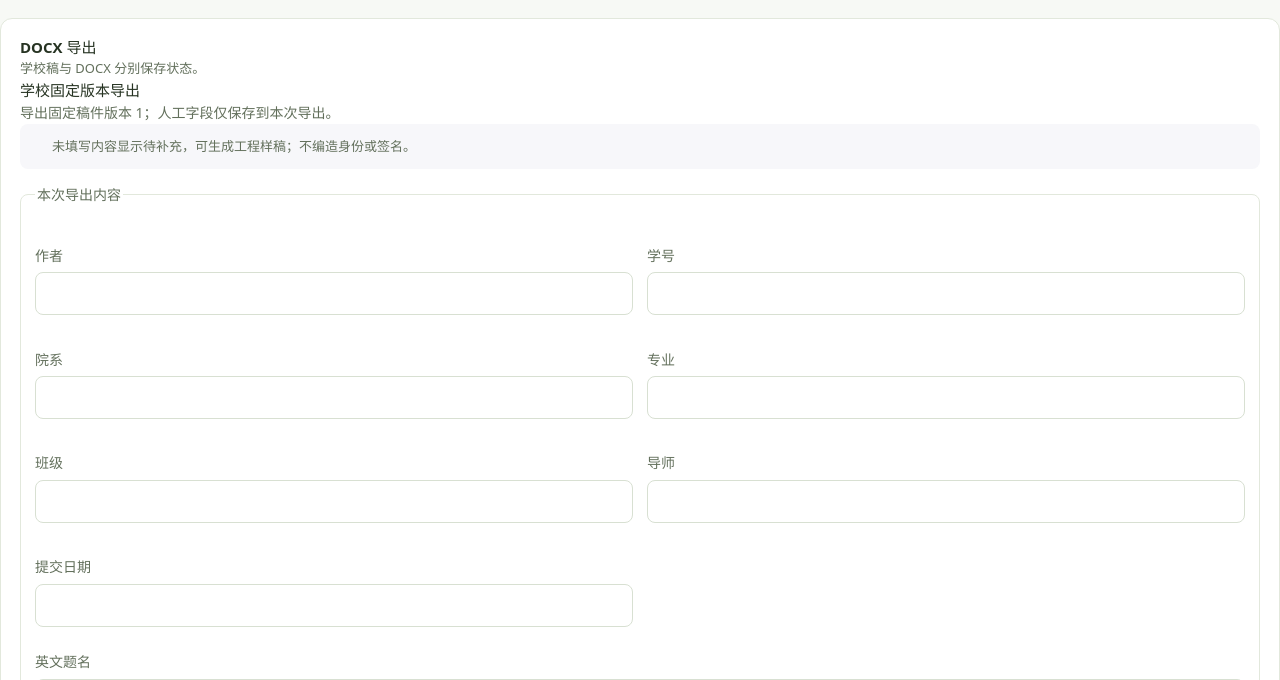
Test case: previews and creates using identical school options, restores static receipt and keeps Word after PDF failure
Type "测试作者" into the field labelled "作者" at x=334, y=294, box [35,272,633,315]
(page scrolled)
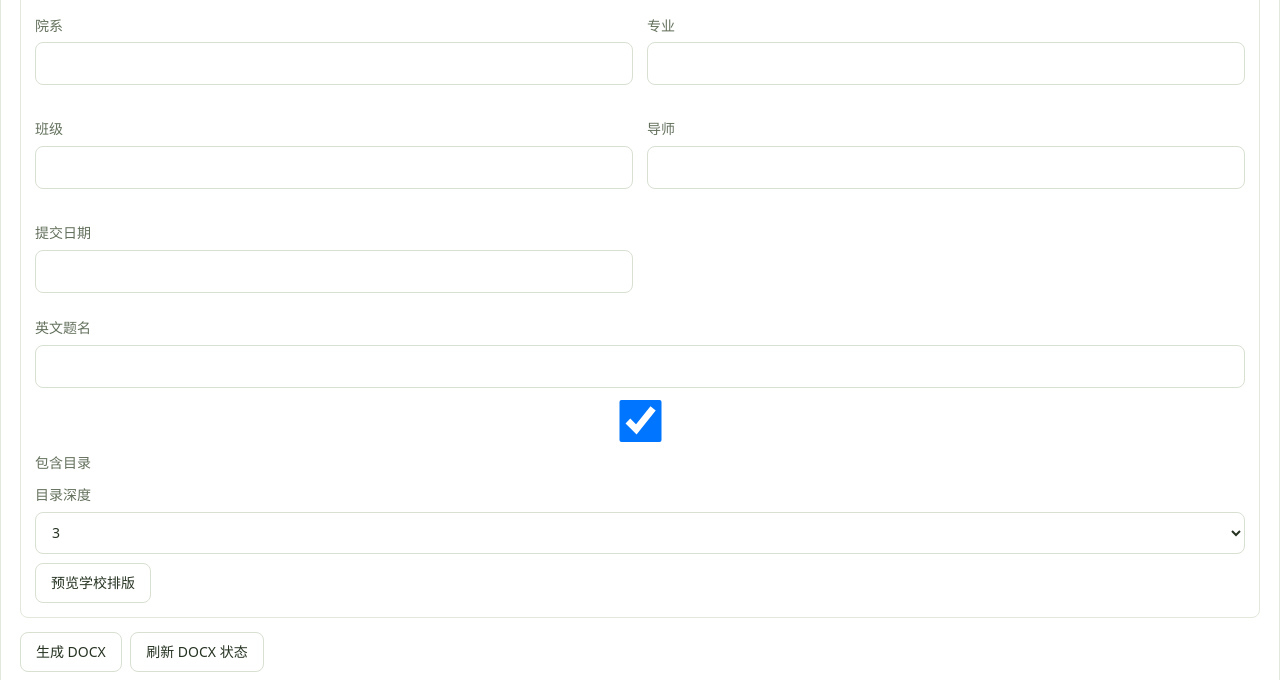
Click the button "预览学校排版" at x=93, y=583, box [35,563,151,603]
(page scrolled)
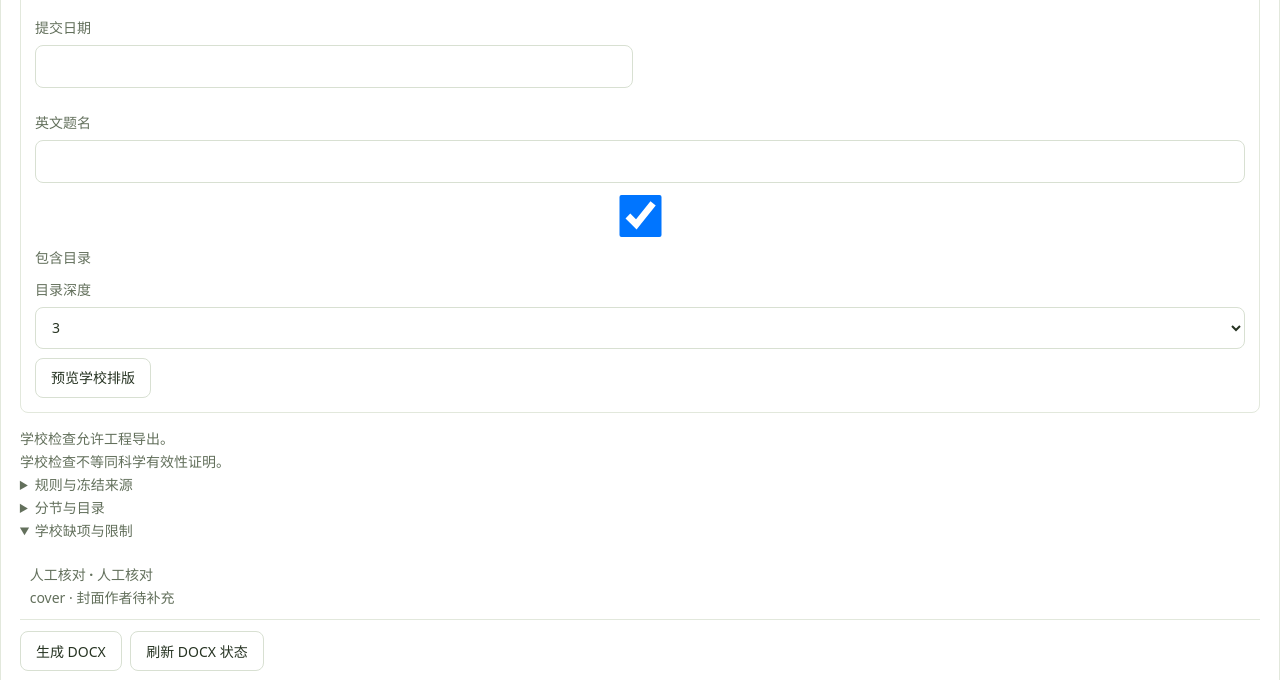
Expected: the text "cover · 封面作者待补充" is shown, [30,588,174,607]
Click the button "生成 DOCX" at x=71, y=651, box [20,631,122,671]
(page scrolled)
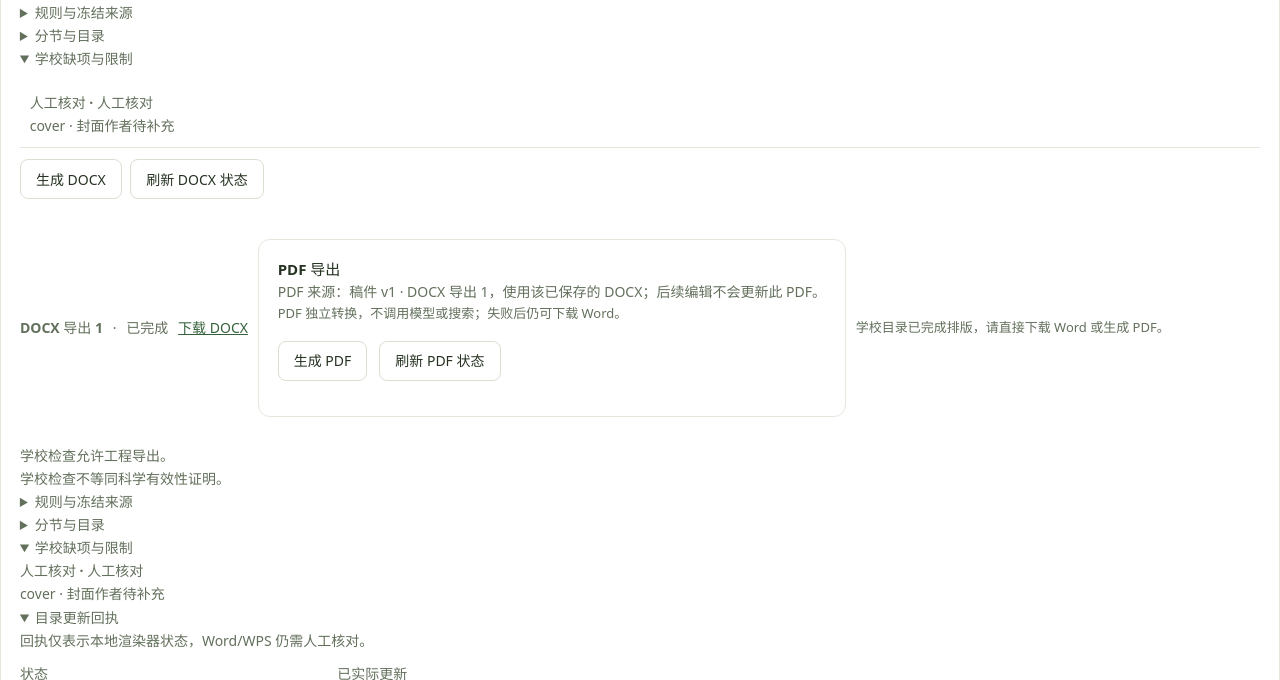
Expected: the link "下载 DOCX" is shown, [178,316,248,340]
Expected: the heading "目录更新回执" is shown, [35,608,119,626]
Click the button "生成 PDF" at x=322, y=361, box [278,341,367,381]
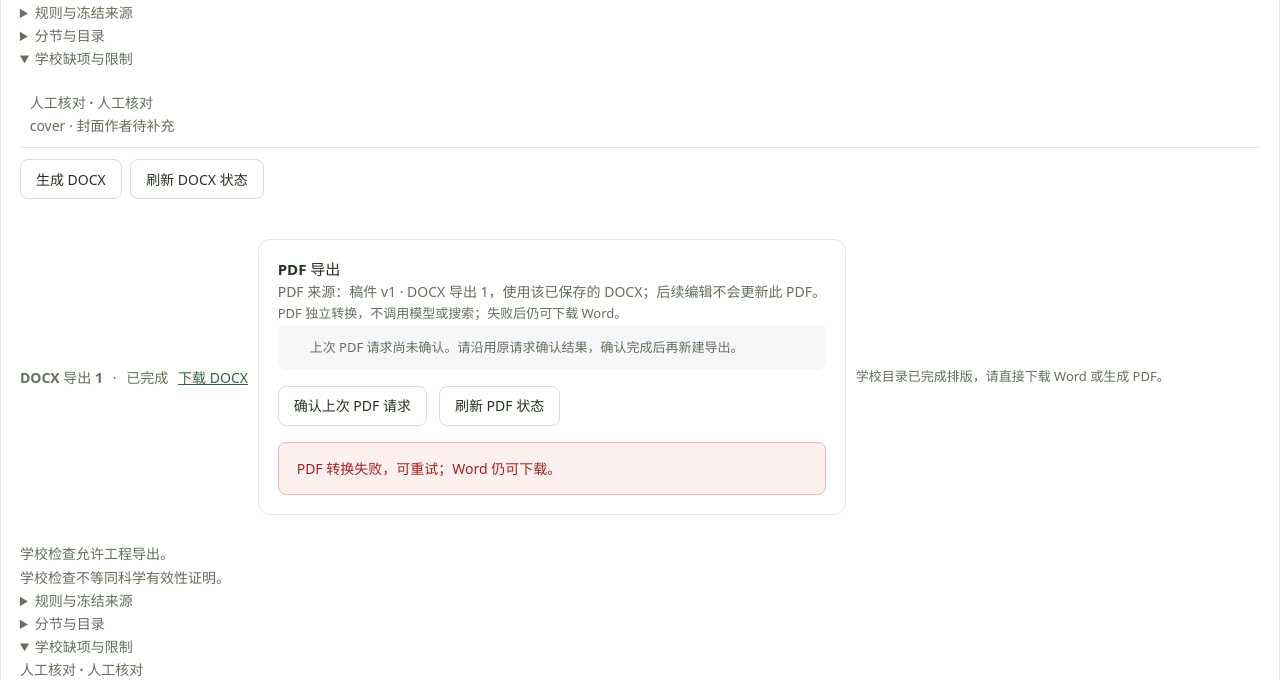
Expected: the message "PDF 转换失败，可重试；Word 仍可下载。" is shown, [278,442,826,495]
